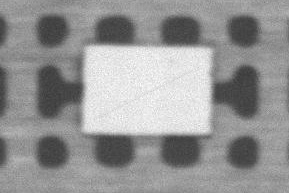DIE_CRACK: (141, 43, 289, 79)
